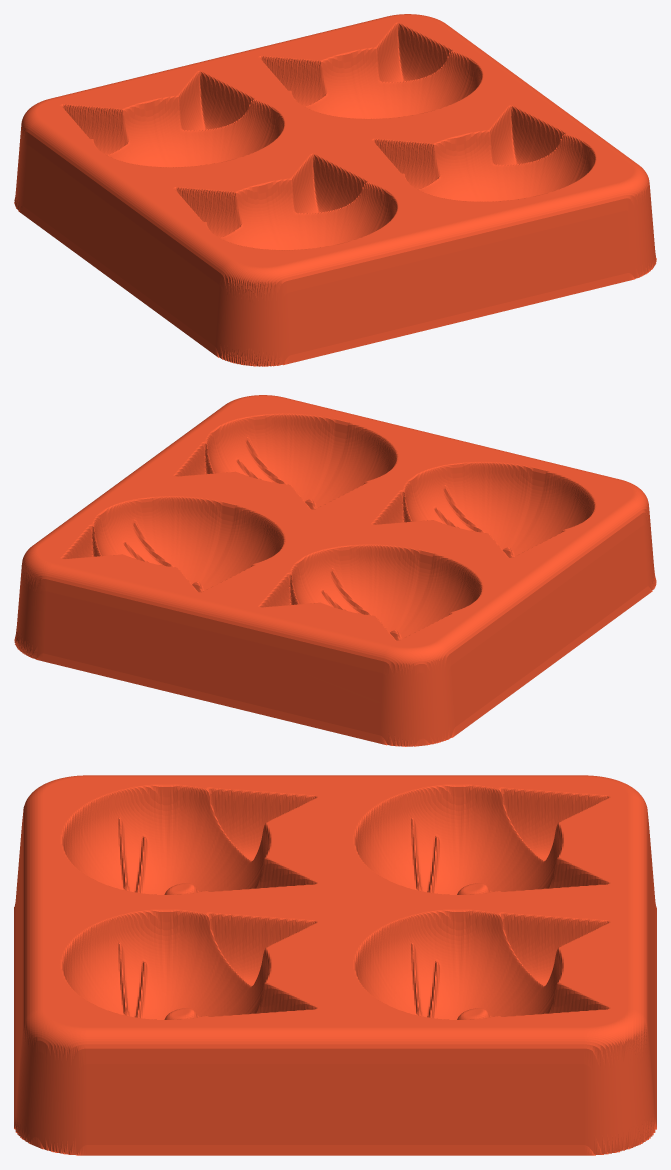
The model's file is mold.glb.
3 views of the same model, one above another, from view 1: azimuth 30°, elevation 25°; view 2: azimuth 150°, elevation 25°; view 3: azimuth 270°, elevation 25° (orthographic). The views are drawn at different scales.
Parts seen in each view (by area): view 1: geometry_0; view 2: geometry_0; view 3: geometry_0.
Part boxes in pixels (left/top/right/bottom): geometry_0: left=14, top=14, right=656, bottom=366; geometry_0: left=14, top=395, right=656, bottom=746; geometry_0: left=14, top=775, right=656, bottom=1155.
Bounding box in the file's own units: 0.0808 × 0.0159 × 0.08.
